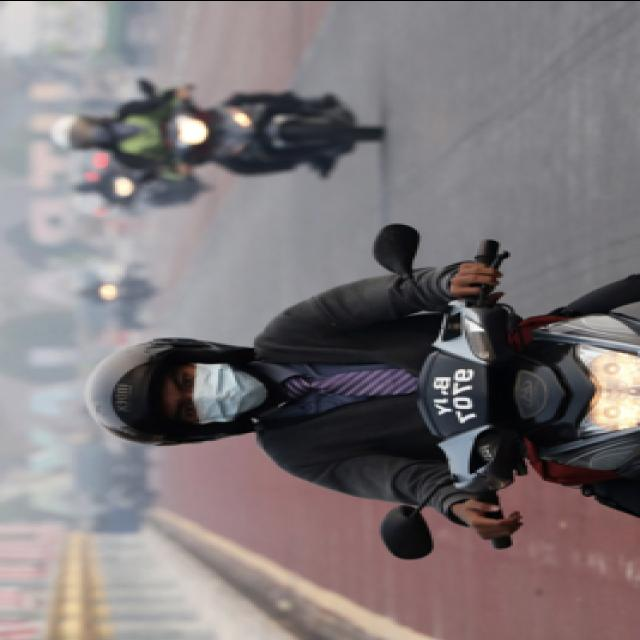mask: (165, 362, 264, 422)
